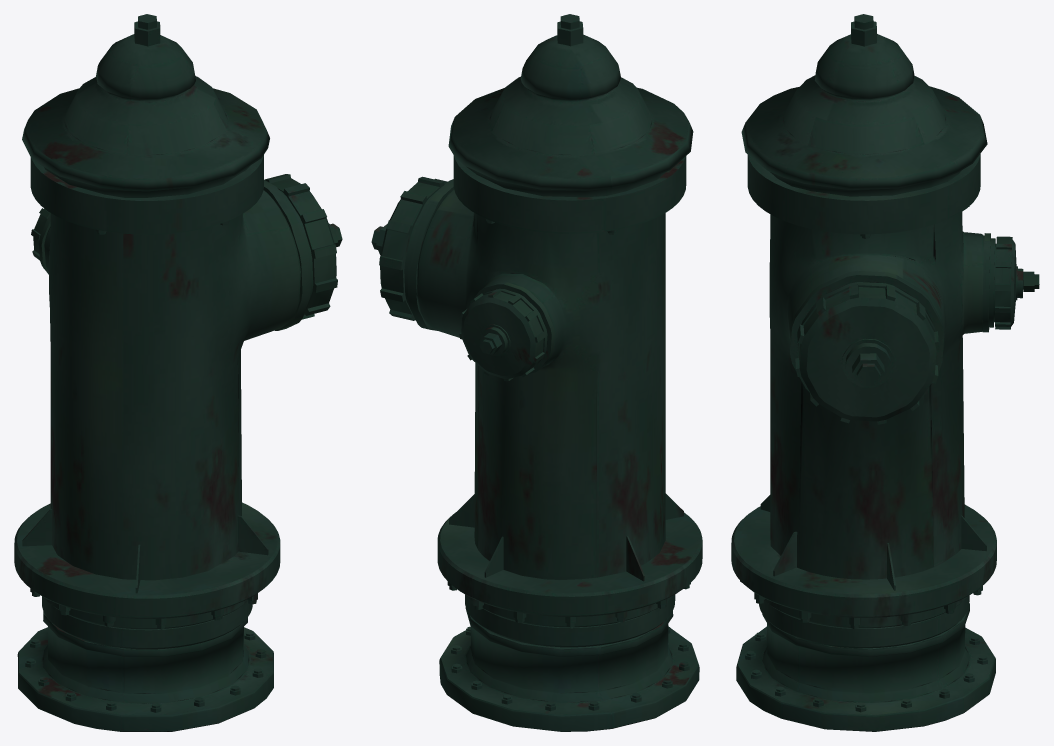
The model's file is Fireplug.fbx.
3 views of the same model, side by side, from view 1: azimuth 30°, elevation 25°; view 2: azimuth 150°, elevation 25°; view 3: azimuth 270°, elevation 25° (orthographic).
Visible parts, largest first — view 1: BocaIncendio; view 2: BocaIncendio; view 3: BocaIncendio.
Boxes of the visible parts, left/top/right/bottom form: BocaIncendio: left=14, top=14, right=342, bottom=731; BocaIncendio: left=371, top=14, right=702, bottom=731; BocaIncendio: left=731, top=14, right=1039, bottom=731.
Bounding box in the file's own units: 0.3934 × 0.8098 × 0.3429.
